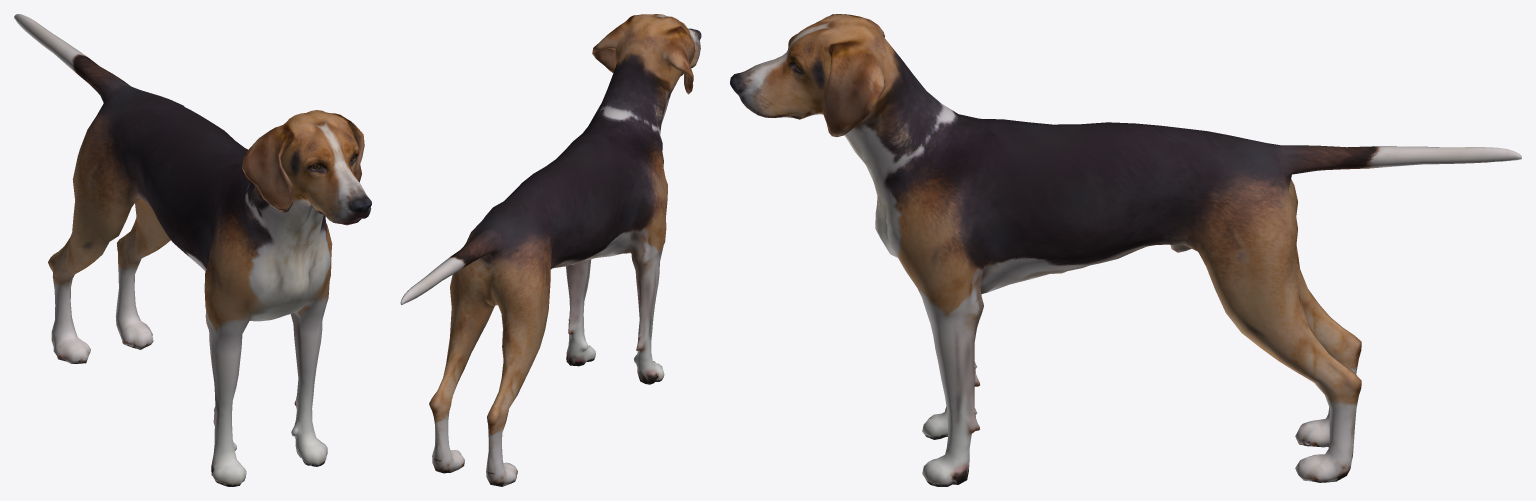
File: Dog AmericanFoxhound 1.fbx
3 renders of one model, left to right at view 1: azimuth 30°, elevation 25°; view 2: azimuth 150°, elevation 25°; view 3: azimuth 270°, elevation 25°, orthographic. The views are drawn at different scales.
Parts seen in each view (by area): view 1: sm_1_0_0; view 2: sm_1_0_0; view 3: sm_1_0_0.
Part boxes in pixels (bbox=[...]): sm_1_0_0: bbox=[14, 14, 371, 486]; sm_1_0_0: bbox=[400, 14, 701, 486]; sm_1_0_0: bbox=[730, 14, 1521, 486].
Size of the model in its own units: 25.54 by 79.25 by 130.
3 materials, 3 textured.
